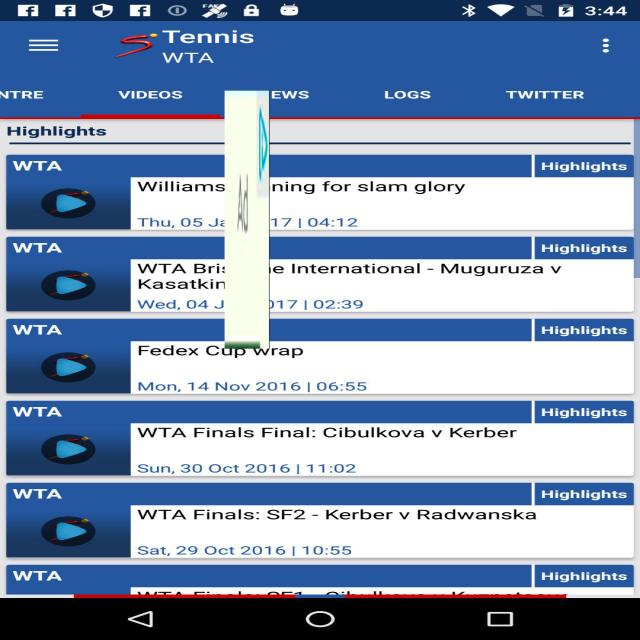sneaking: (224, 90, 270, 348)
